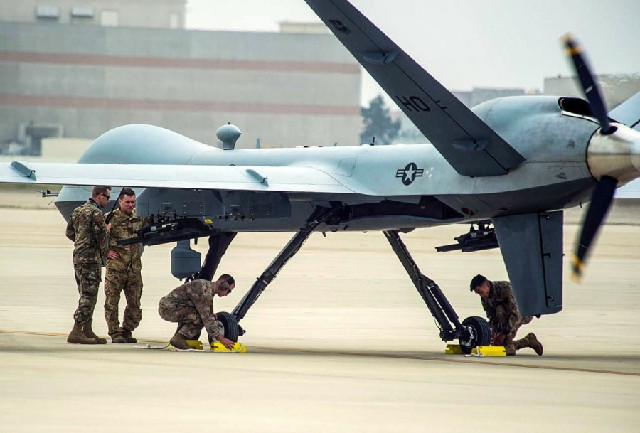maybay_khongnguoilai: (30, 8, 625, 327)
